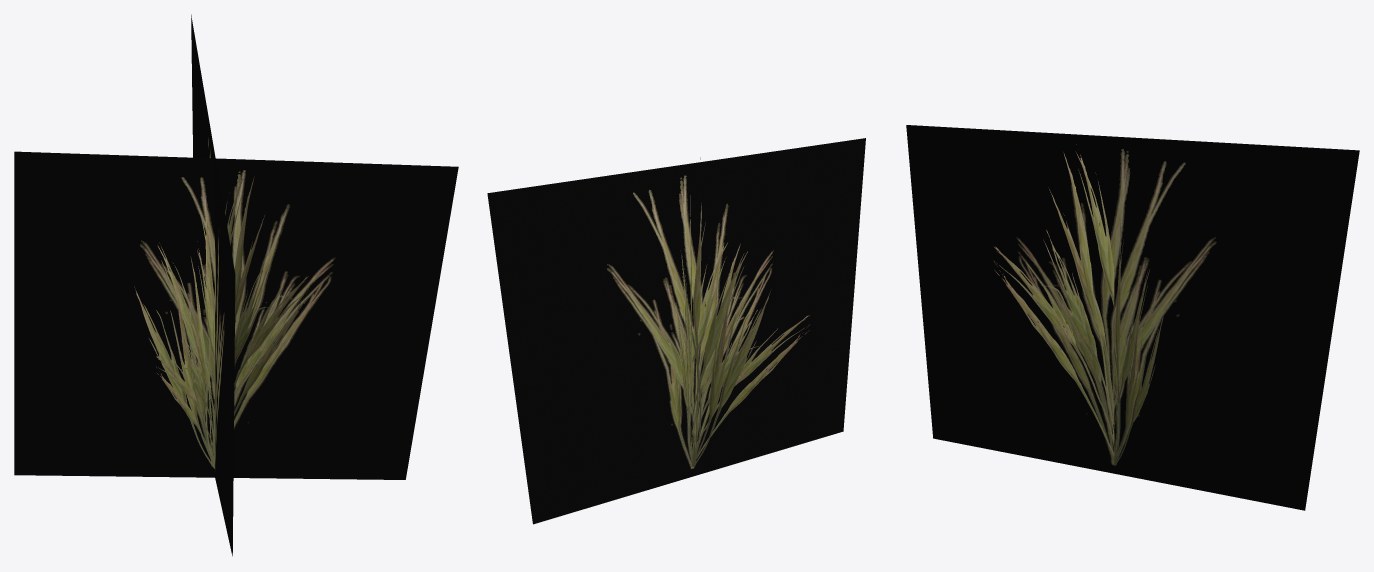
Rendered from Grass-02.fbx.
The picture shows the model from 3 angles, left to right: view 1: azimuth 30°, elevation 25°; view 2: azimuth 150°, elevation 25°; view 3: azimuth 270°, elevation 25°; orthographic projection. The views are drawn at different scales.
Parts seen in each view (by area): view 1: Grass-02; view 2: Grass-02; view 3: Grass-02.
Part boxes in pixels (x1,y1,x2,y2): Grass-02: [14, 14, 458, 556]; Grass-02: [487, 138, 865, 524]; Grass-02: [906, 125, 1359, 510].
Size of the model in its own units: 125 by 134 by 133.
Materials: 2 (2 with a texture image).
